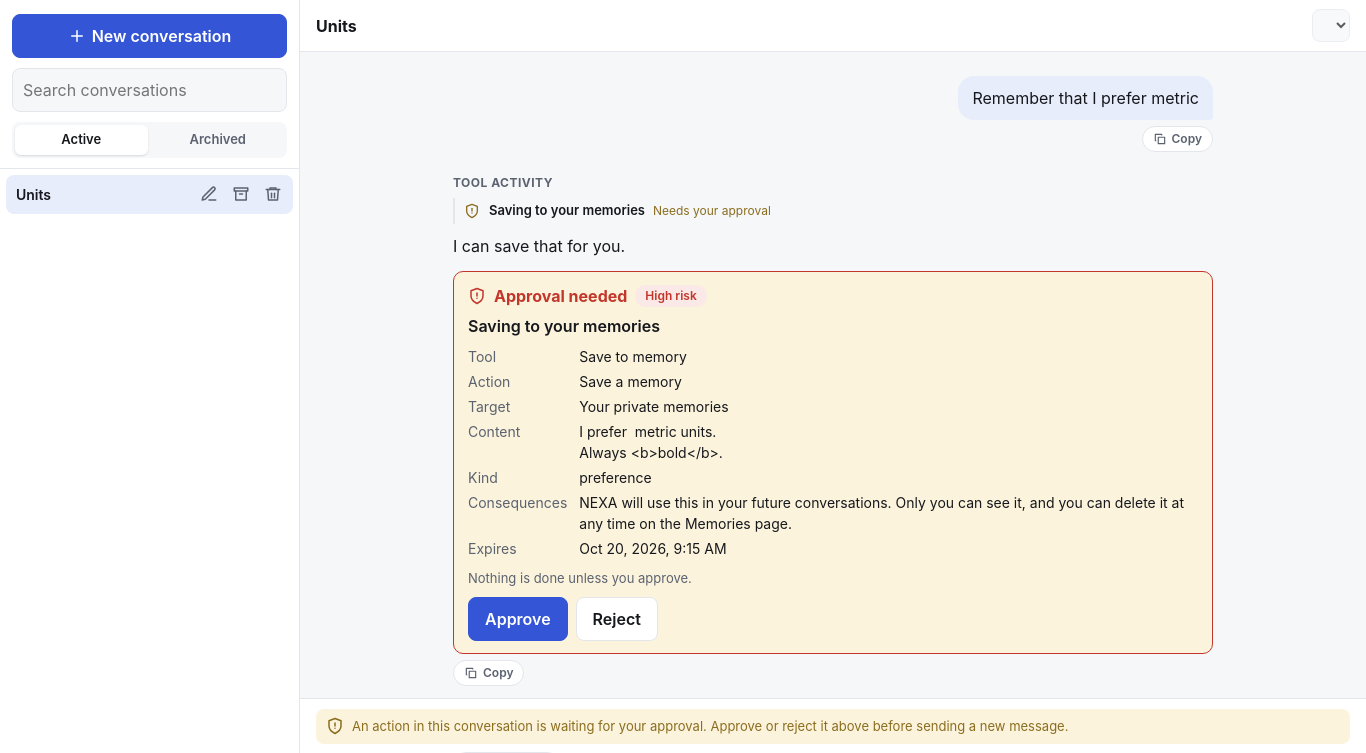
Test: ChatPage with AI tools › shows a reply whose approval expired as cancelled
Click the button "Approve": [518, 619] box x1=468 y1=597 x2=568 y2=641
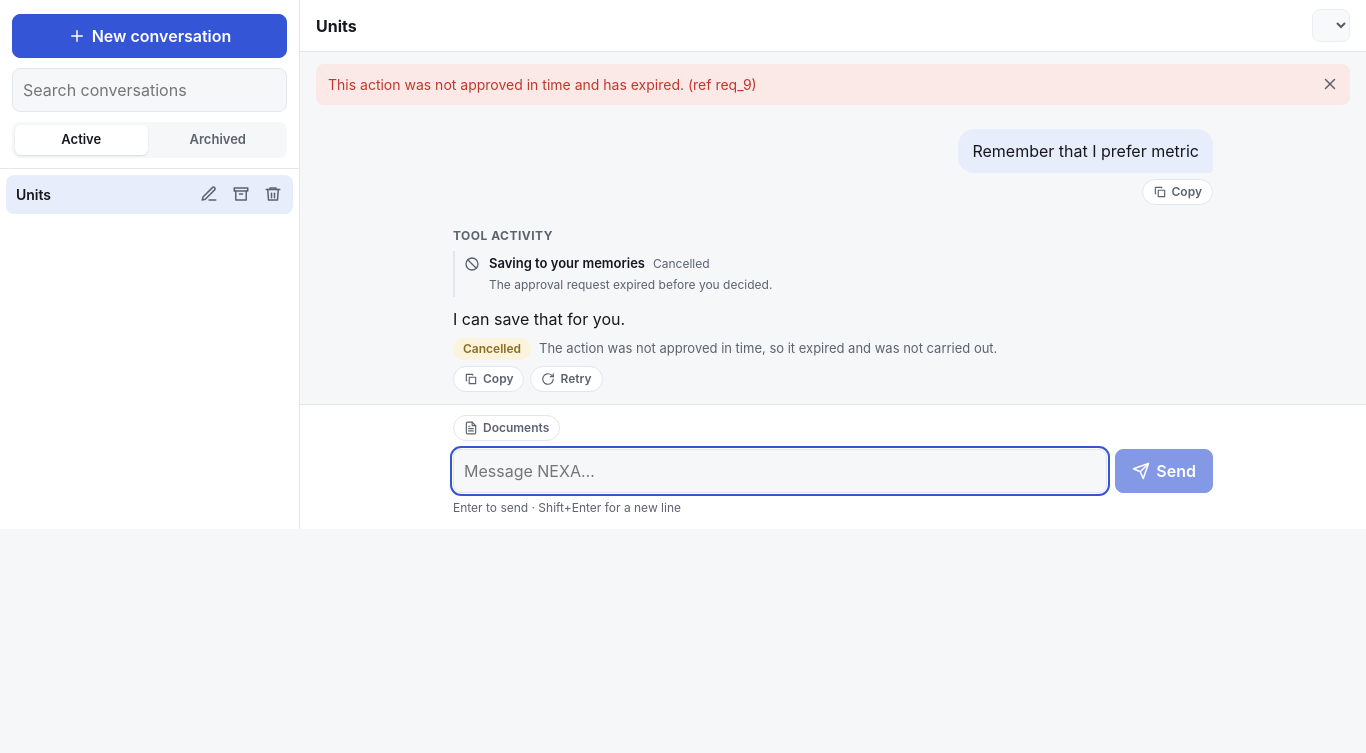
Expected: the message reads "This action was not approved in time and has expired. (ref req_9)", x1=328 y1=76 x2=757 y2=93
Expected: the text "Approval needed" is gone
Expected: the 2nd text "Cancelled" is shown, x1=453 y1=338 x2=531 y2=360
